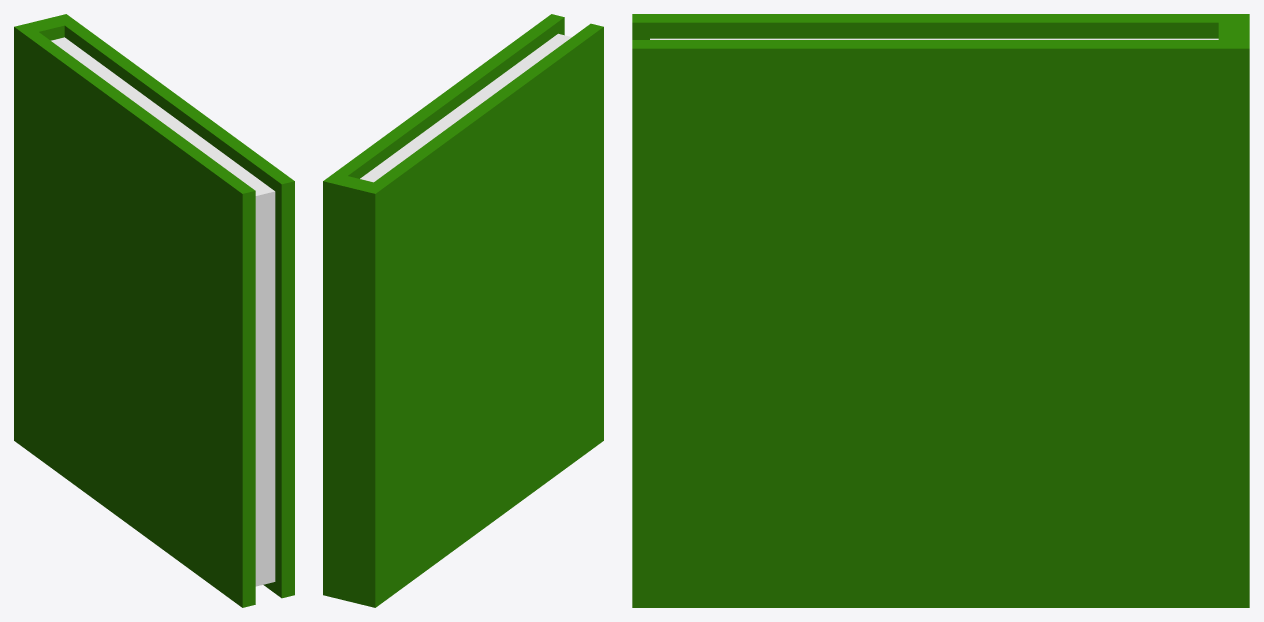
File: bookthin.fbx
The picture shows the model from 3 angles, left to right: view 1: azimuth 30°, elevation 25°; view 2: azimuth 150°, elevation 25°; view 3: azimuth 270°, elevation 25°; orthographic projection. The views are drawn at different scales.
Parts seen in each view (by area): view 1: pCube1; view 2: pCube1; view 3: pCube1.
Boxes of the visible parts, <box> form: pCube1: <box>14,14,294,607</box>; pCube1: <box>323,14,603,607</box>; pCube1: <box>632,14,1249,607</box>.
Bounding box in the file's own units: 0.1303 × 0.9844 × 0.9844.
